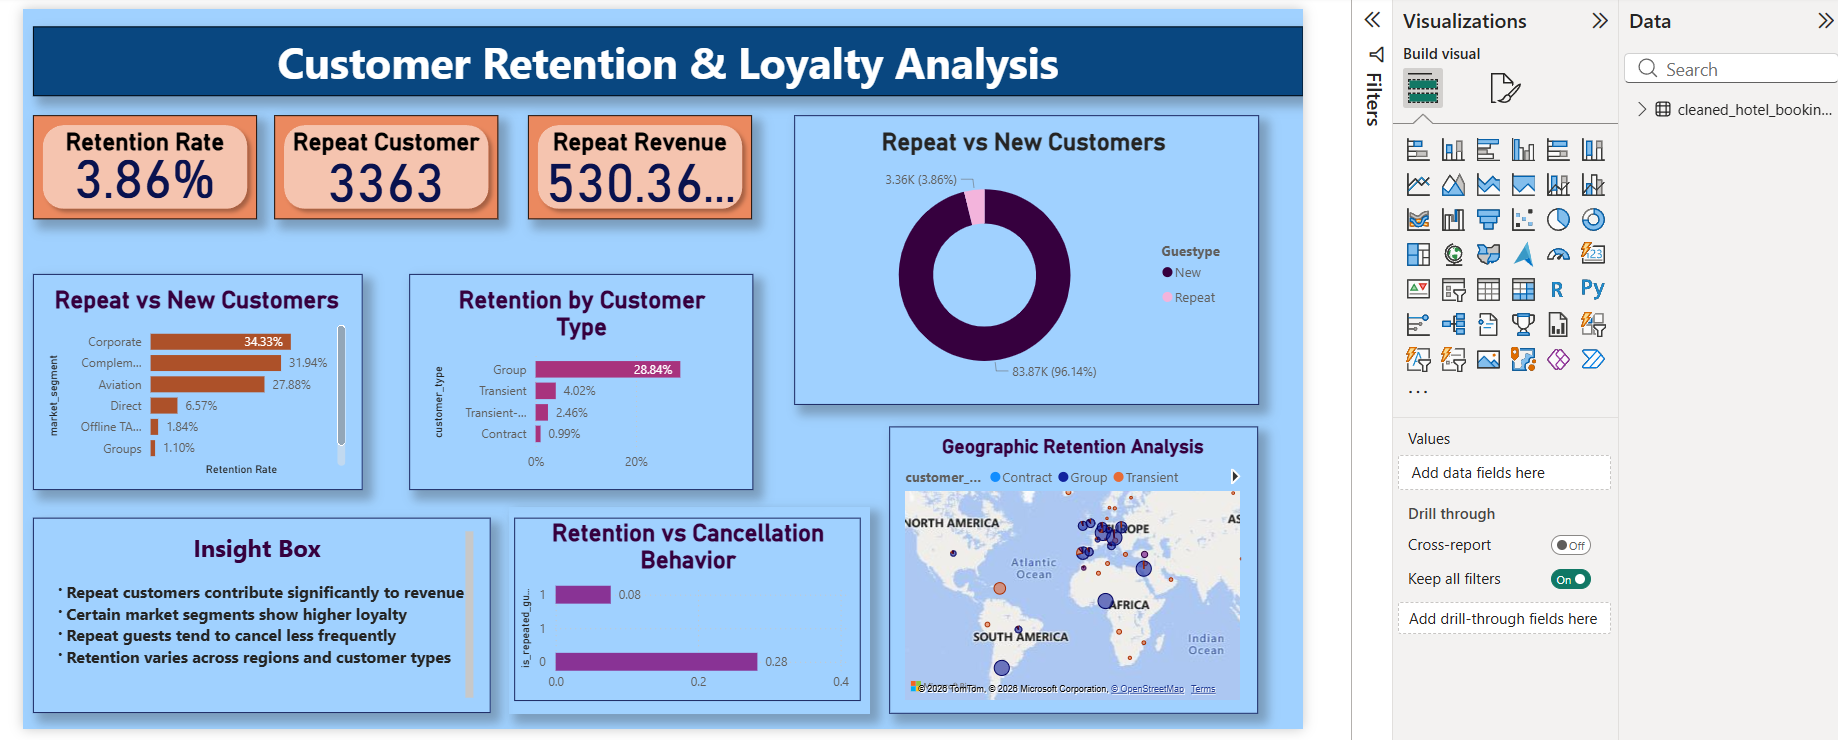

What the dashboard file says about the page in this screenshot:
{"tool":"powerbi","page":{"name":"Page 1","canvas":[1280,720],"ordinal":0},"visuals":[{"type":"textbox","box":[9.7,18.1,1270.4,70],"z":0},{"type":"shape","box":[9.7,106.2,224.4,103.8],"z":1000},{"type":"shape","box":[250.9,106.2,224.4,103.8],"z":2000},{"type":"shape","box":[505.5,106.2,224.4,103.8],"z":3000},{"type":"shape","box":[9.7,265.4,329.4,216],"z":4000},{"type":"shape","box":[770.9,106.2,464.5,289.5],"z":5000},{"type":"shape","box":[386.1,265.4,343.8,216],"z":6000},{"type":"shape","box":[866.2,417.4,369.2,287.1],"z":7000},{"type":"shape","box":[486.2,497.1,360.7,207.5],"z":8000},{"type":"shape","box":[9.7,509.1,457.2,195.4],"z":9000},{"type":"card","title":"Retention Rate","fields":{"Values":["cleaned_hotel_booking (11).Retention Rate"]},"box":[20.5,118.2,203.9,83.2],"z":10000},{"type":"card","title":"Repeat Customer","fields":{"Values":["cleaned_hotel_booking (11).Repeat Customers"]},"box":[261.8,118.2,203.9,91.7],"z":11000},{"type":"card","title":"Repeat Revenue","fields":{"Values":["cleaned_hotel_booking (11).Repeat Revenue"]},"box":[515.2,118.2,203.9,91.7],"z":12000},{"type":"donutChart","title":"Repeat vs New Customers","fields":{"Category":["cleaned_hotel_booking (11).Guestype"],"Y":["CountNonNull(cleaned_hotel_booking (11).hotel)"]},"box":[780.6,118.2,441.6,267.8],"z":13000},{"type":"barChart","title":"Repeat vs New Customers","fields":{"Category":["cleaned_hotel_booking (11).market_segment"],"Y":["cleaned_hotel_booking (11).Retention Rate"]},"box":[20.5,276.3,307.6,195.4],"z":14000},{"type":"barChart","title":"Retention by Customer Type","fields":{"Y":["cleaned_hotel_booking (11).Retention Rate"],"Category":["cleaned_hotel_booking (11).customer_type"]},"box":[405.4,276.3,307.6,195.4],"z":15000},{"type":"clusteredBarChart","title":"Retention vs Cancellation Behavior","fields":{"Category":["cleaned_hotel_booking (11).is_repeated_guest"],"Y":["cleaned_hotel_booking (11).Cancellation Rate"]},"box":[491,509.1,346.2,183.4],"z":16000},{"type":"map","title":"Geographic Retention Analysis","fields":{"Category":["cleaned_hotel_booking (11).country"],"Size":["cleaned_hotel_booking (11).Repeat Guest Rate"],"Series":["cleaned_hotel_booking (11).customer_type"]},"box":[877.1,425.9,345,270.2],"z":17000},{"type":"textbox","box":[20.5,517.6,435.5,178.6],"z":18000}]}

Visuals, with their boxes on the page's 1280x720 design canvas (x1, y1, x2, y2). These are canvas units, not pixel positions in the 1838x740 screenshot, which may show the page scaled, cropped or inside an application window:
textbox: [10, 18, 1280, 88]
shape: [10, 106, 234, 210]
shape: [251, 106, 475, 210]
shape: [506, 106, 730, 210]
shape: [10, 265, 339, 481]
shape: [771, 106, 1235, 396]
shape: [386, 265, 730, 481]
shape: [866, 417, 1235, 704]
shape: [486, 497, 847, 705]
shape: [10, 509, 467, 704]
"Retention Rate" card: [20, 118, 224, 201]
"Repeat Customer" card: [262, 118, 466, 210]
"Repeat Revenue" card: [515, 118, 719, 210]
"Repeat vs New Customers" donutChart: [781, 118, 1222, 386]
"Repeat vs New Customers" barChart: [20, 276, 328, 472]
"Retention by Customer Type" barChart: [405, 276, 713, 472]
"Retention vs Cancellation Behavior" clusteredBarChart: [491, 509, 837, 692]
"Geographic Retention Analysis" map: [877, 426, 1222, 696]
textbox: [20, 518, 456, 696]
